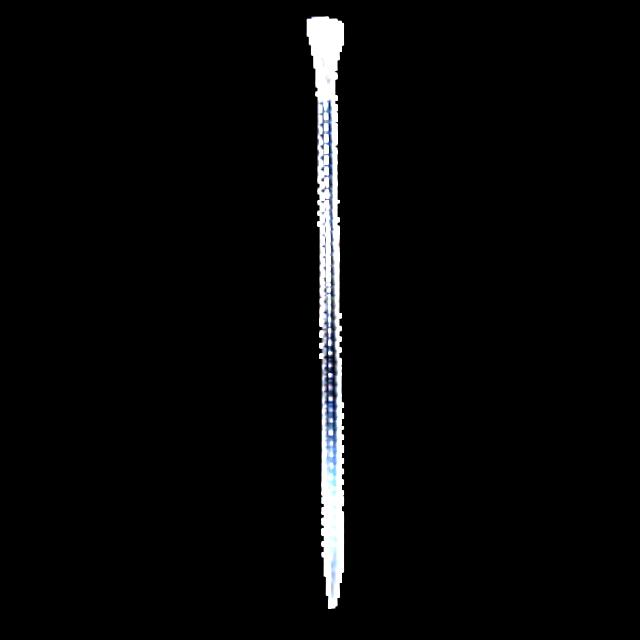crow bar: (287, 11, 383, 616)
